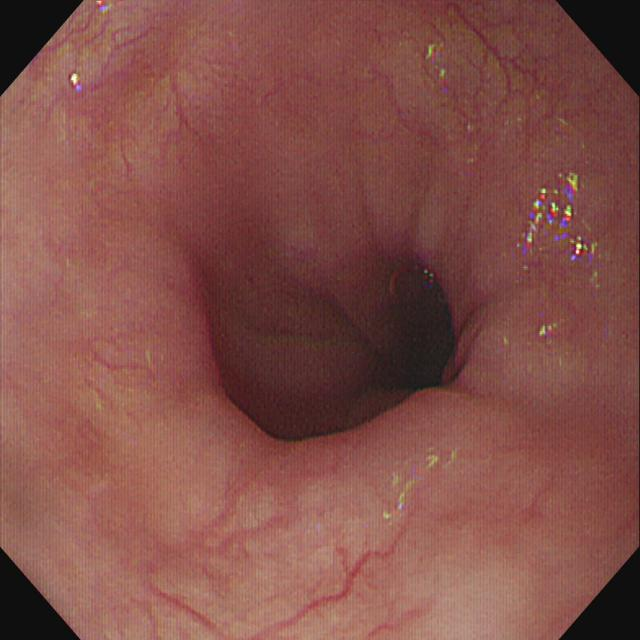E: (375, 265, 456, 389)
U: (523, 190, 547, 254), (549, 203, 575, 231), (570, 238, 598, 263)
